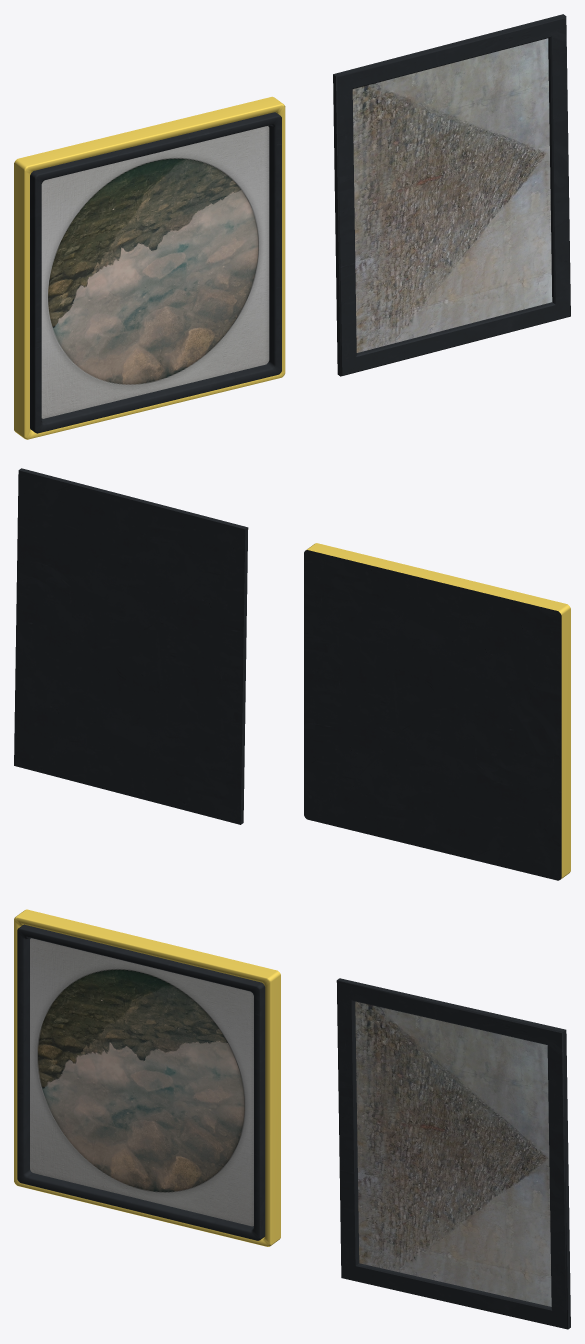
File: Painting.fbx
3 views of the same model, one above another, from view 1: azimuth 30°, elevation 25°; view 2: azimuth 150°, elevation 25°; view 3: azimuth 330°, elevation 25° (orthographic).
Parts seen in each view (by area): view 1: Paintings_2, Paintings_1; view 2: Paintings_2, Paintings_1; view 3: Paintings_2, Paintings_1.
Part boxes in pixels (x1,y1,x2,y2): Paintings_2: [14, 96, 285, 439]; Paintings_1: [333, 14, 570, 376]; Paintings_2: [304, 543, 570, 880]; Paintings_1: [14, 468, 248, 824]; Paintings_2: [14, 909, 280, 1246]; Paintings_1: [336, 978, 570, 1329].
Bounding box in the file's own units: 314 × 165 × 14.87.
